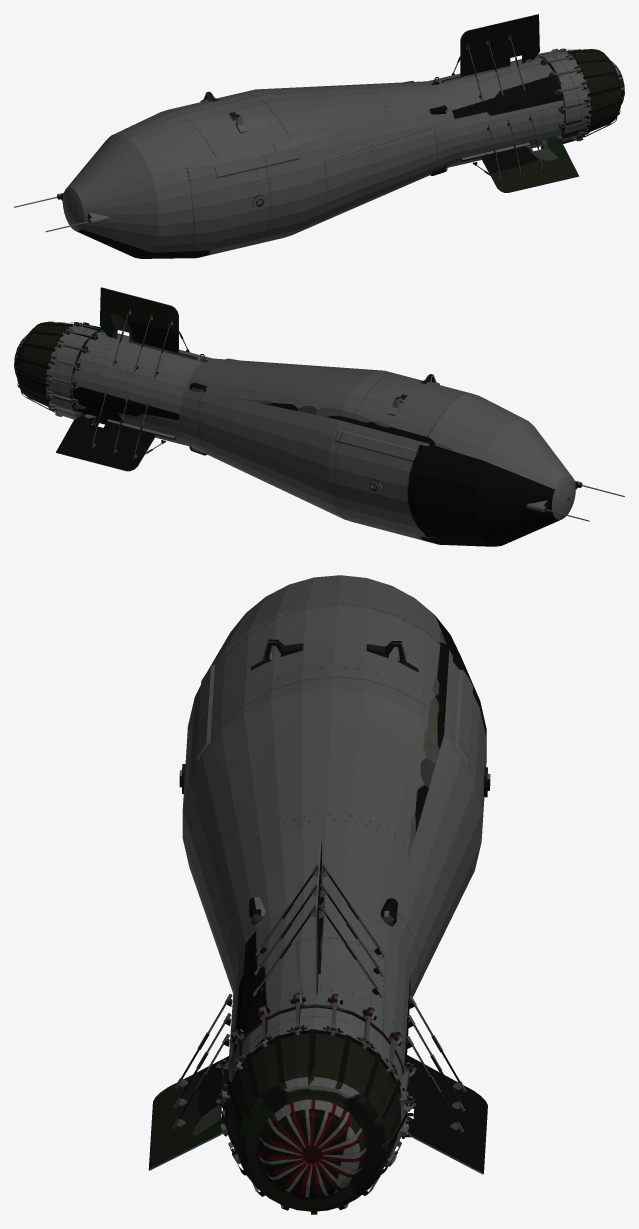
3 renders of one model, top to bottom at view 1: azimuth 30°, elevation 25°; view 2: azimuth 150°, elevation 25°; view 3: azimuth 270°, elevation 25°, orthographic. The views are drawn at different scales.
Visible parts, largest first — view 1: tsar_an602_0; view 2: tsar_an602_0; view 3: tsar_an602_0.
Part boxes in pixels (x1,y1,x2,y2): tsar_an602_0: (14, 14, 624, 258); tsar_an602_0: (14, 287, 624, 546); tsar_an602_0: (148, 575, 490, 1214).
Size of the model in its own units: 9.64 by 2.5 by 2.47.
1 material, 1 textured.
